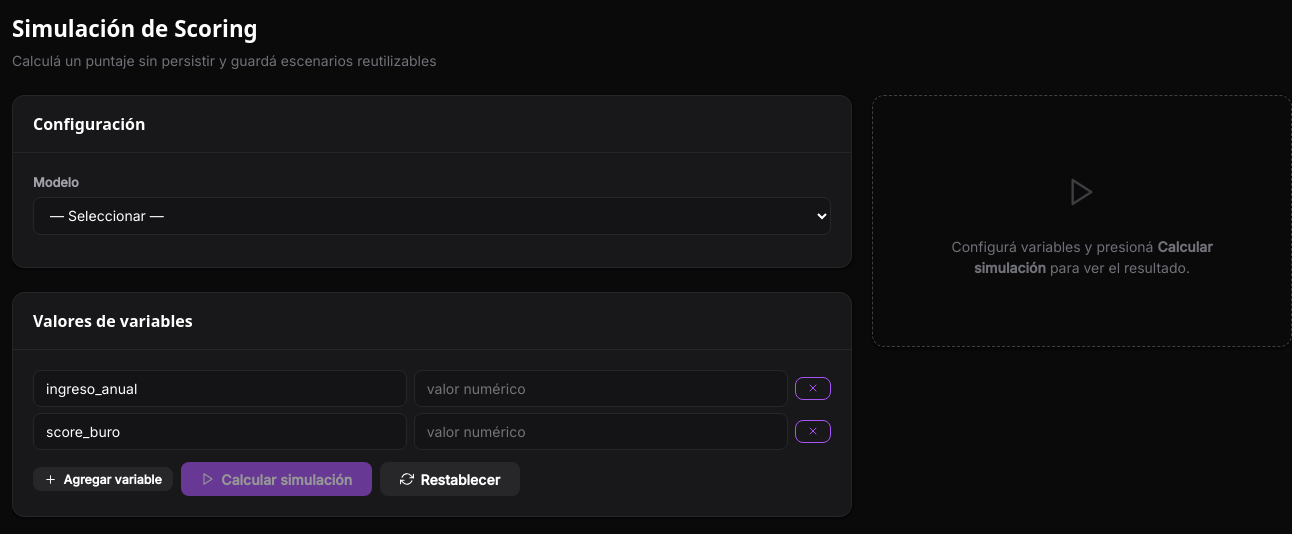
Test: Simulation — add and remove variable rows › removes a variable row when clicking the remove button
# Click the first remove button
Click the 1st button named "remove variable" at coordinates (813, 388), box [795,377,831,400]
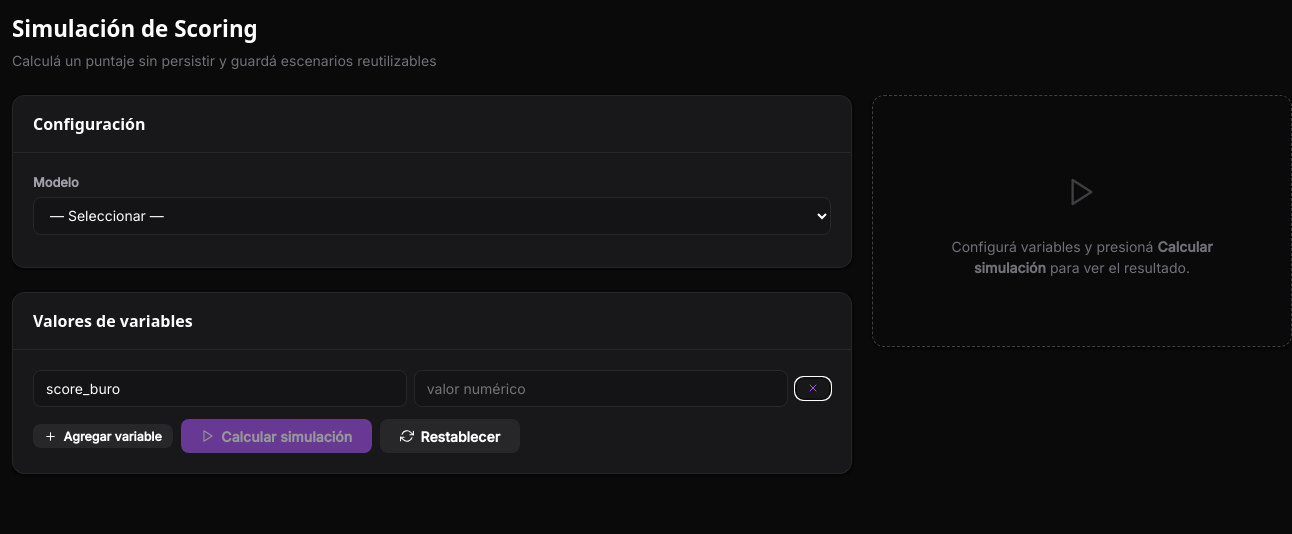
Now the number of elements with class "sim-var-row" is 1, box [33,370,831,407]
